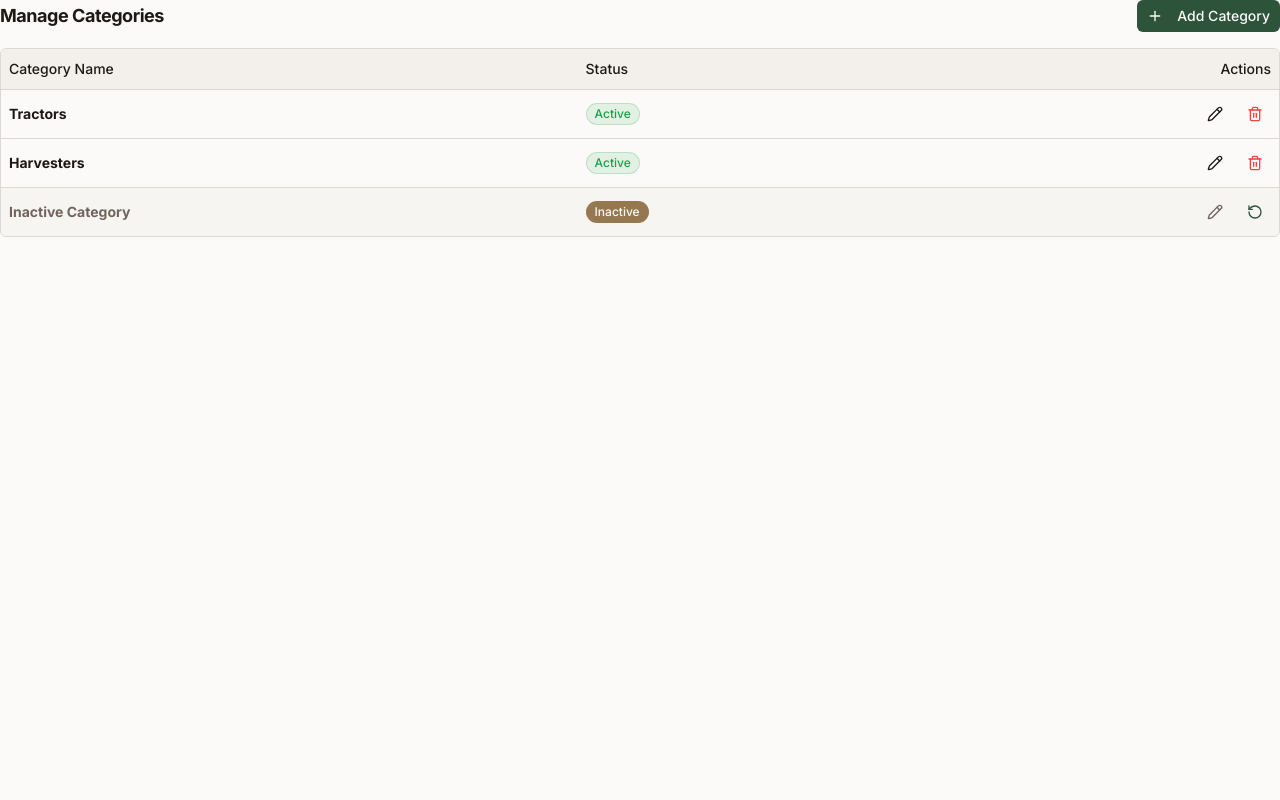
it: CategoryManager › should open edit dialog when edit button is clicked
The width and height of the screenshot is (1280, 800).
Click the button named "edit category" in the row of "Tractors": (1215, 114) [1199, 98, 1231, 130]
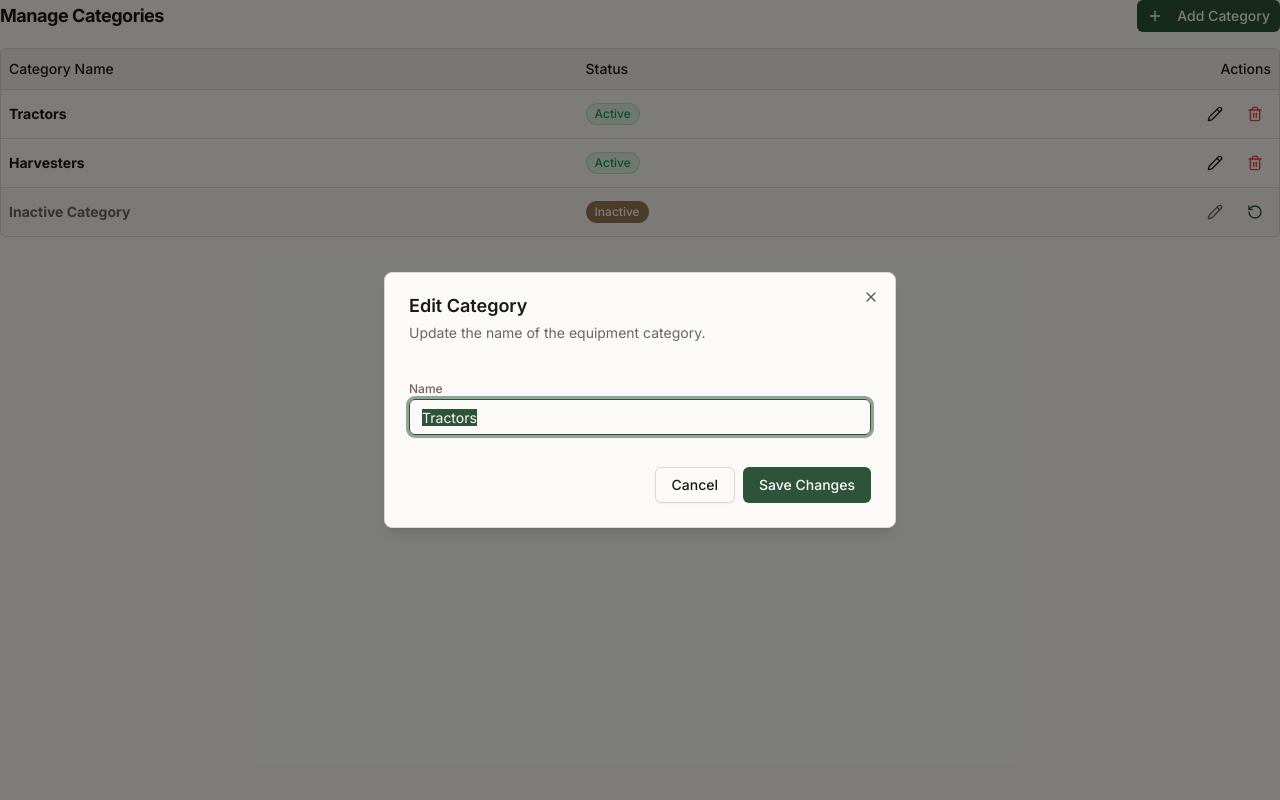
Expected: the heading "Edit Category" is shown, [409, 295, 527, 316]
